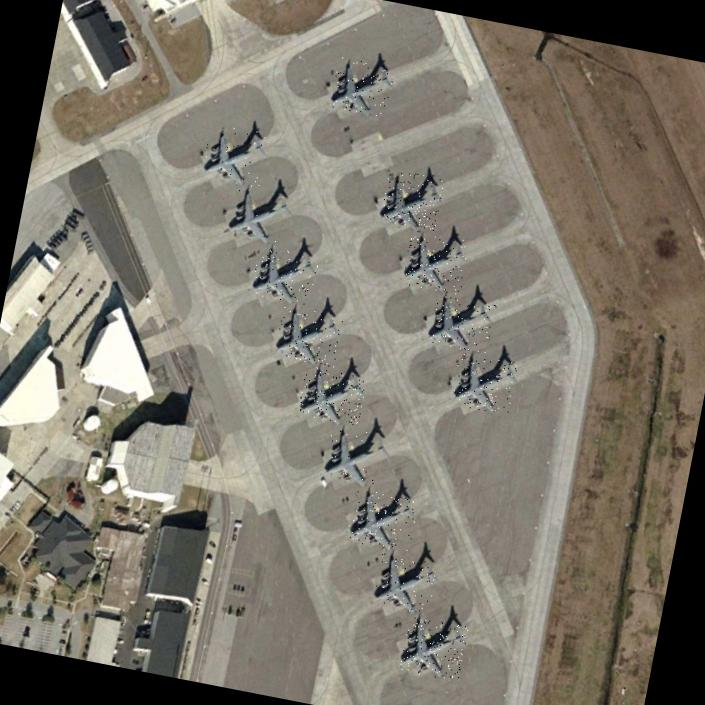A3: (397, 614, 469, 682), (345, 487, 418, 552), (199, 121, 268, 187), (400, 229, 470, 294), (273, 302, 343, 366), (449, 350, 518, 414), (250, 242, 320, 305), (296, 364, 367, 426), (425, 292, 496, 354), (370, 552, 440, 614), (322, 424, 391, 486), (378, 168, 445, 231), (223, 184, 291, 246), (328, 56, 394, 117)
